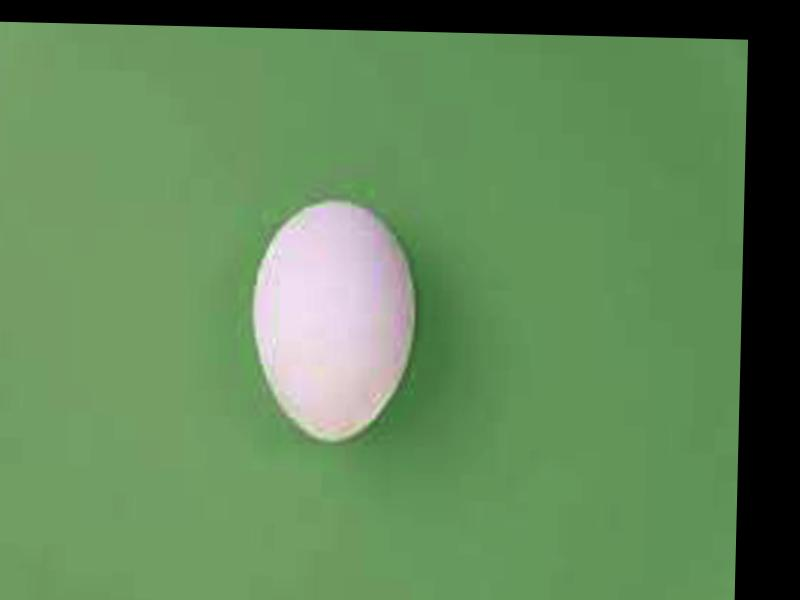Eggs: (249, 195, 420, 443)
